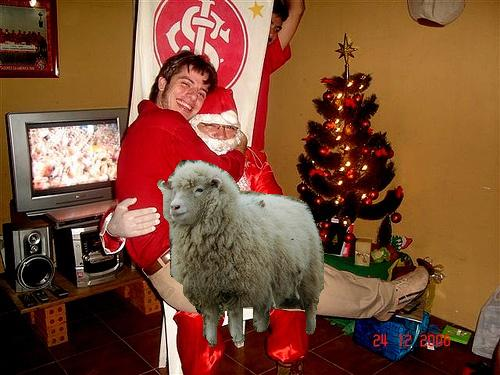tampered: (158, 161, 324, 347)
